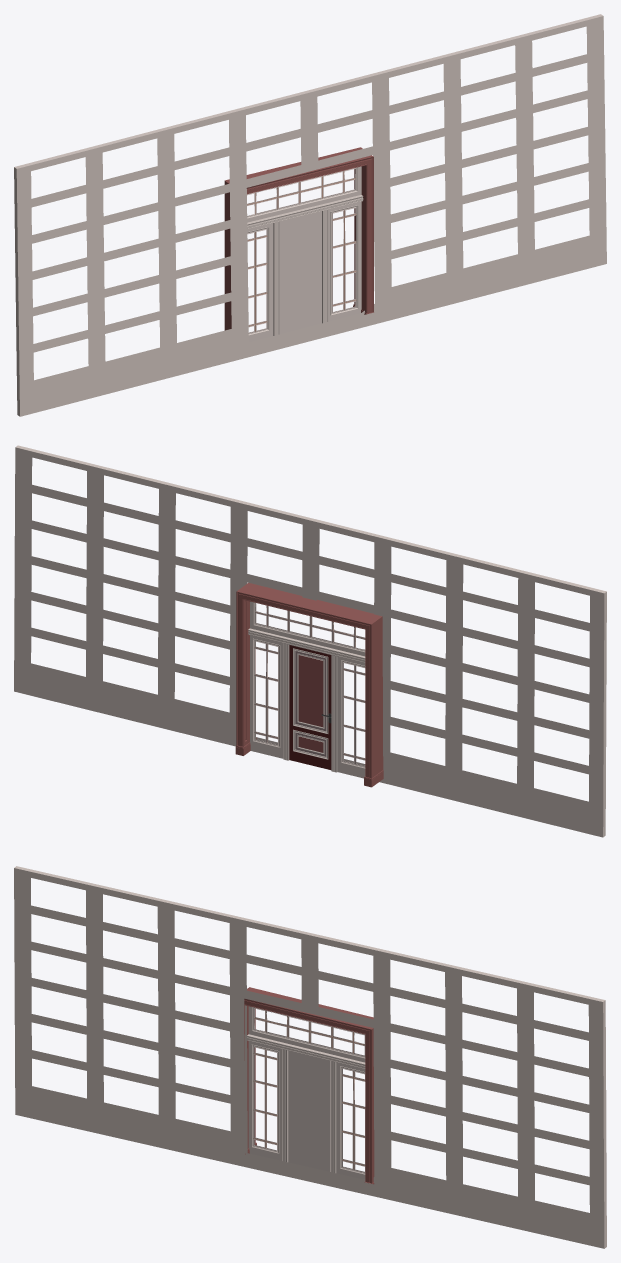
File: puertaA.gltf
The picture shows the model from 3 angles, top to bottom: view 1: azimuth 30°, elevation 25°; view 2: azimuth 150°, elevation 25°; view 3: azimuth 330°, elevation 25°; orthographic projection.
Parts seen in each view (by area): view 1: Cube, Object049; view 2: Cube, Object049; view 3: Cube, Object049.
Boxes of the visible parts, <box> form: Cube: <box>14,14,606,416</box>; Object049: <box>224,147,373,342</box>; Cube: <box>14,445,606,837</box>; Object049: <box>235,582,383,787</box>; Cube: <box>14,866,606,1248</box>; Object049: <box>244,987,374,1184</box>.
Size of the model in its own units: 132 by 54.11 by 6.26.
